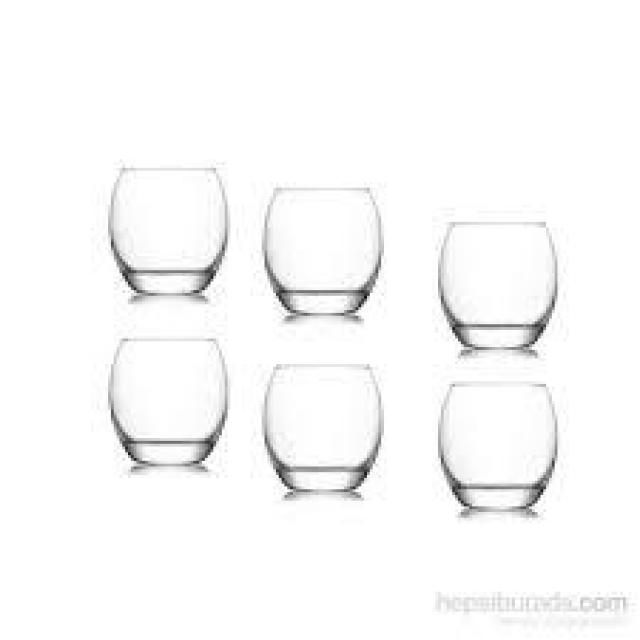non-organic waste: (102, 158, 236, 306)
